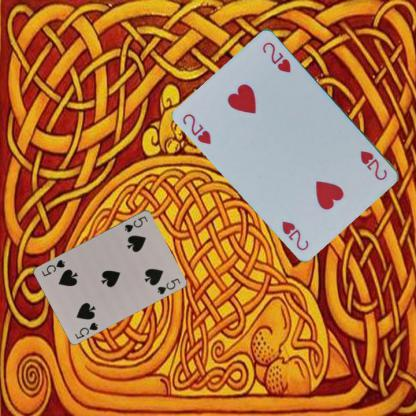2h: (180, 111, 213, 146), (358, 148, 388, 182)
5s: (122, 214, 149, 234), (72, 320, 99, 340)
